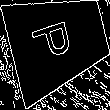P_E: (33, 18, 83, 67)
